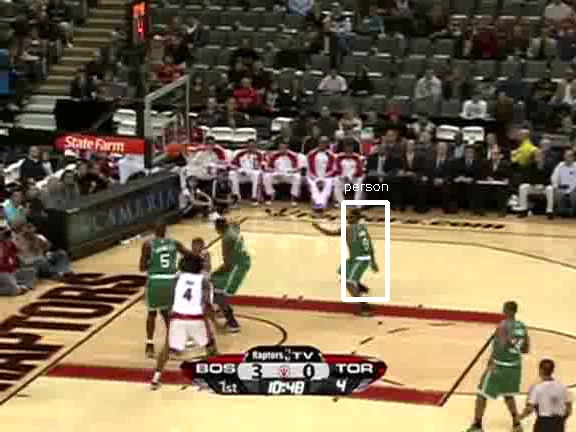person: (345, 216, 379, 297), (344, 216, 378, 297), (346, 216, 380, 297), (345, 215, 379, 296), (345, 217, 379, 298)
target_negative: (154, 65, 391, 384), (282, 167, 466, 395), (244, 133, 540, 205), (23, 59, 73, 378), (87, 42, 196, 161), (312, 314, 458, 379)
